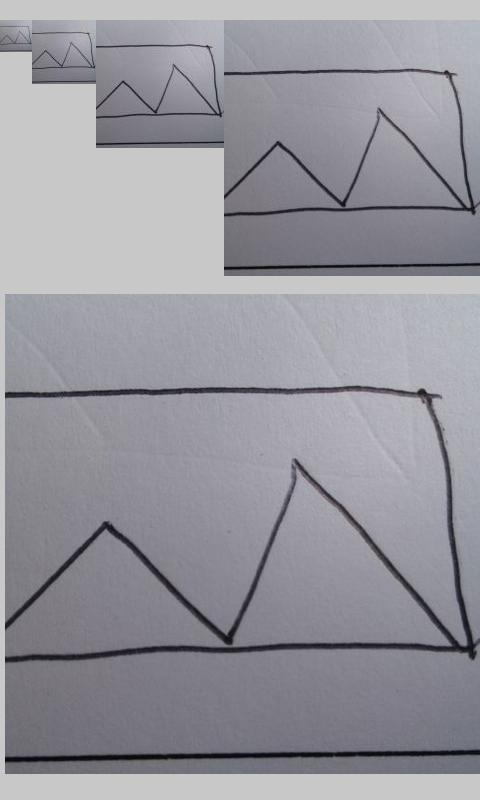image_view: (7, 386, 478, 662), (226, 66, 478, 218), (97, 44, 222, 118), (32, 32, 94, 70), (1, 25, 31, 46)
